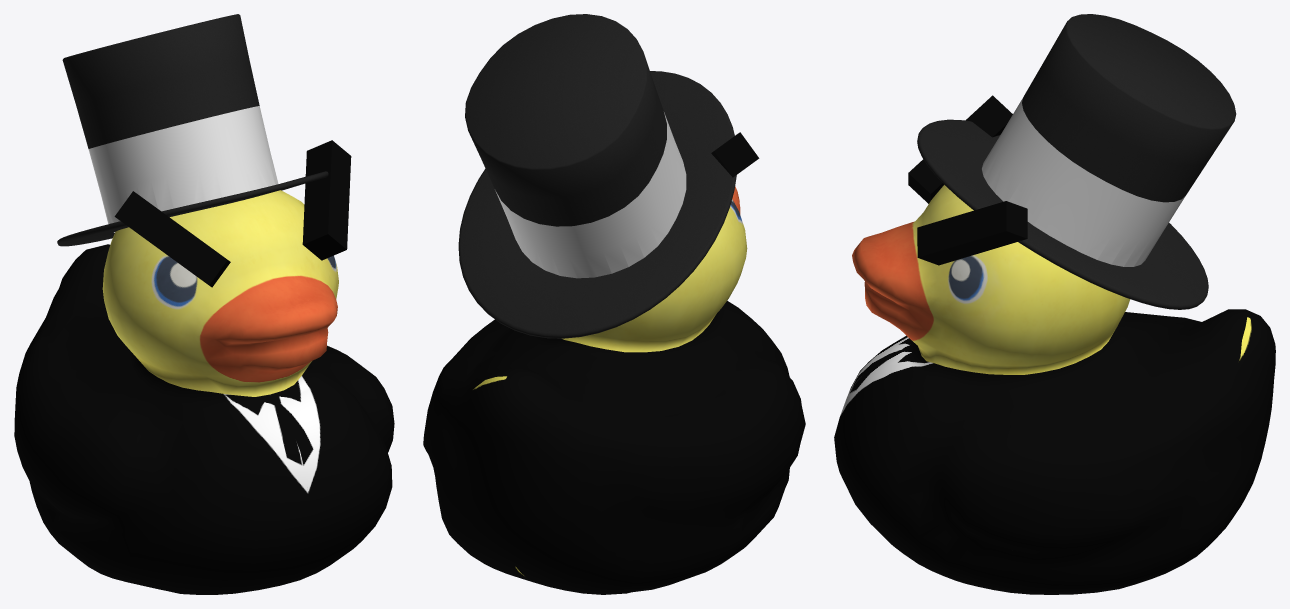
File: Top_Hat_Ducky.fbx
The picture shows the model from 3 angles, left to right: view 1: azimuth 30°, elevation 25°; view 2: azimuth 150°, elevation 25°; view 3: azimuth 270°, elevation 25°; orthographic projection. The views are drawn at different scales.
Parts seen in each view (by area): view 1: Ducky_tophatguy, TOPHAT, TOPHAT_TRIM1, angry_tophat_left, angry_tophat_right; view 2: Ducky_tophatguy, TOPHAT, TOPHAT_TRIM1, angry_tophat_right; view 3: Ducky_tophatguy, TOPHAT, TOPHAT_TRIM1, angry_tophat_left, angry_tophat_right.
Part boxes in pixels (x1=…): Ducky_tophatguy: x1=14, y1=190, x2=394, y2=594; TOPHAT: x1=57, y1=14, x2=328, y2=246; TOPHAT_TRIM1: x1=88, y1=106, x2=278, y2=232; angry_tophat_left: x1=302, y1=140, x2=351, y2=260; angry_tophat_right: x1=114, y1=191, x2=230, y2=287; Ducky_tophatguy: x1=423, y1=186, x2=805, y2=594; TOPHAT: x1=458, y1=14, x2=736, y2=338; TOPHAT_TRIM1: x1=495, y1=112, x2=686, y2=278; angry_tophat_right: x1=711, y1=132, x2=759, y2=177; Ducky_tophatguy: x1=834, y1=185, x2=1275, y2=594; TOPHAT: x1=917, y1=14, x2=1236, y2=309; TOPHAT_TRIM1: x1=982, y1=97, x2=1185, y2=266; angry_tophat_left: x1=917, y1=201, x2=1027, y2=265; angry_tophat_right: x1=908, y1=95, x2=1012, y2=203.
Size of the model in its own units: 62.11 by 95 by 73.49.
4 materials, 2 textured.
